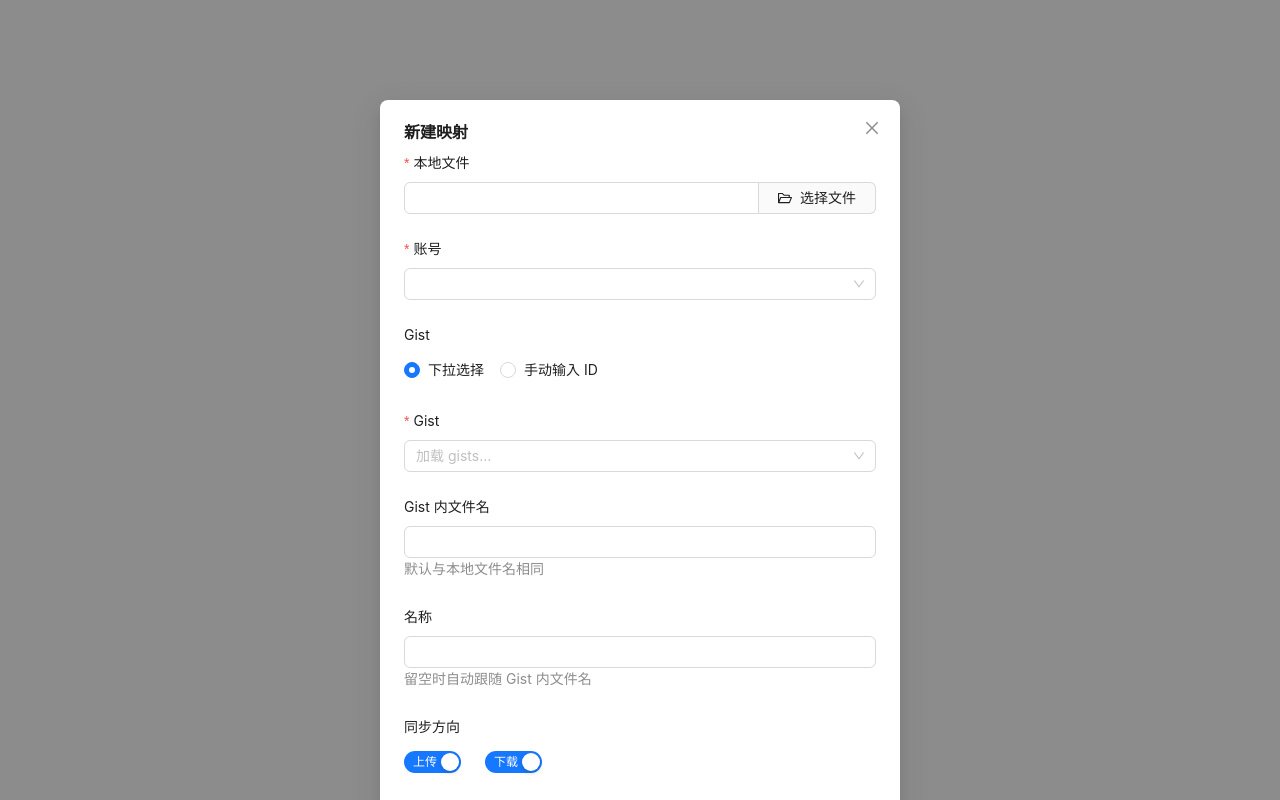
Scenario: MappingForm 名称字段 › 填 Gist 内文件名时，空白的名称自动跟随
Type "todo.md" into the field labelled "Gist 内文件名".
click(640, 542); type("todo.md")  # box x1=404 y1=526 x2=876 y2=558
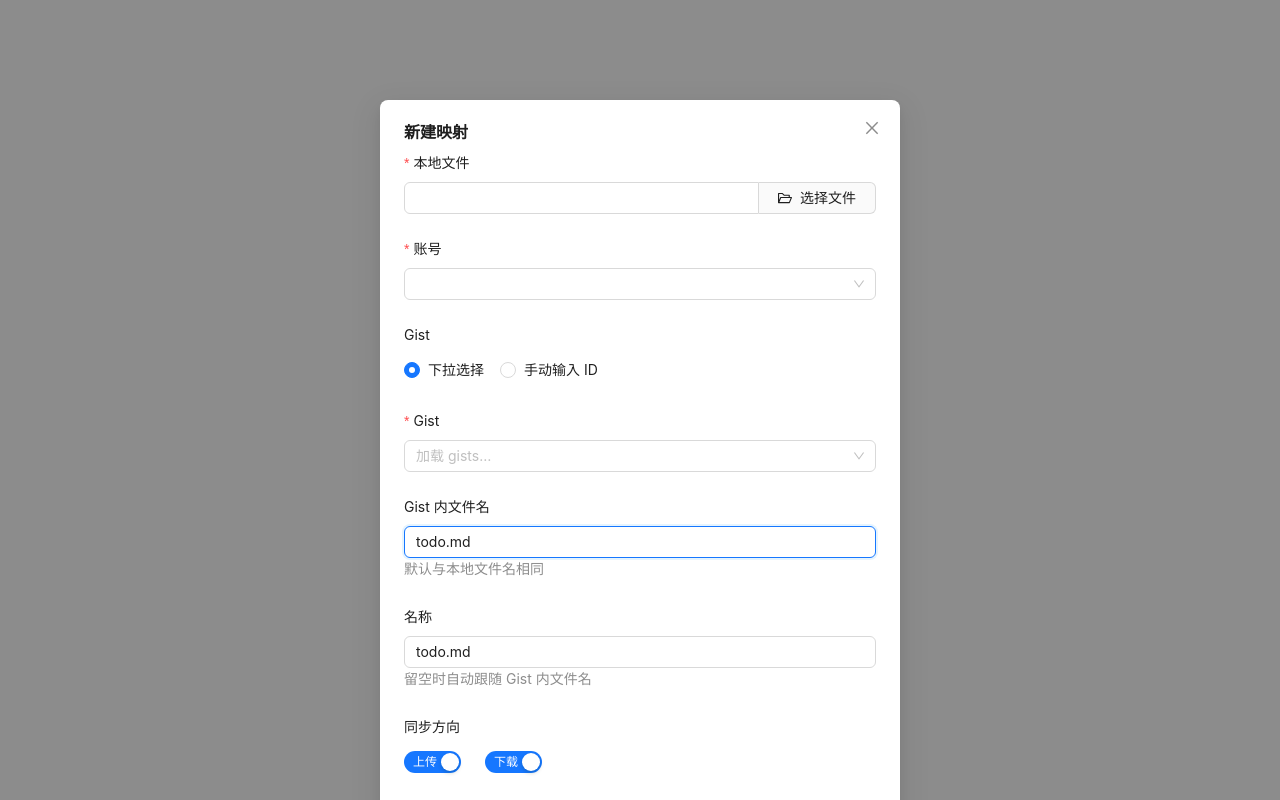
Result: the field labelled "名称" holds "todo.md" at x1=404 y1=636 x2=876 y2=668
